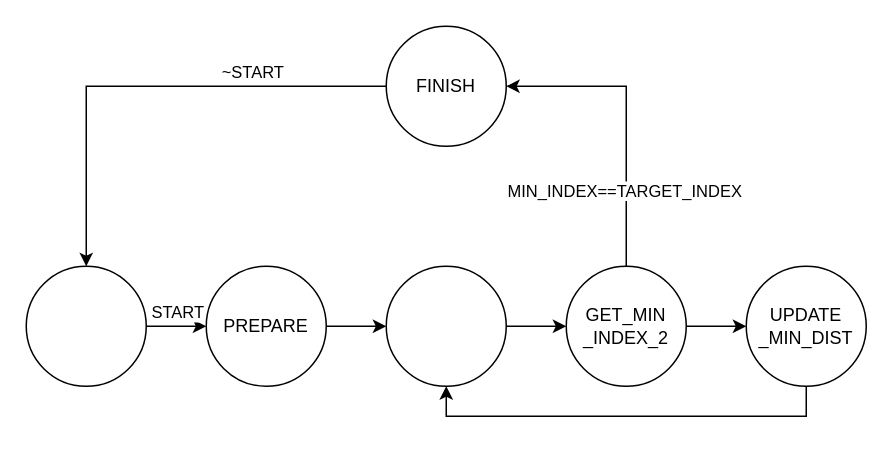
Image size: 893x455. Some labels were removed from this diagram. The shapes that lost their labels are listed below. From the top down, each one's box as (x1, y1, x2, y2) in pixels, then its label:
(25, 265, 146, 386): IDLE
(385, 265, 506, 386): GET_MIN _INDEX_1
